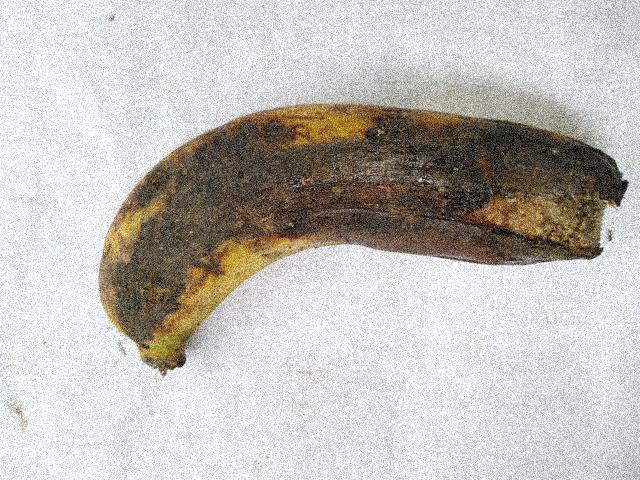rotten: (60, 54, 633, 347)
